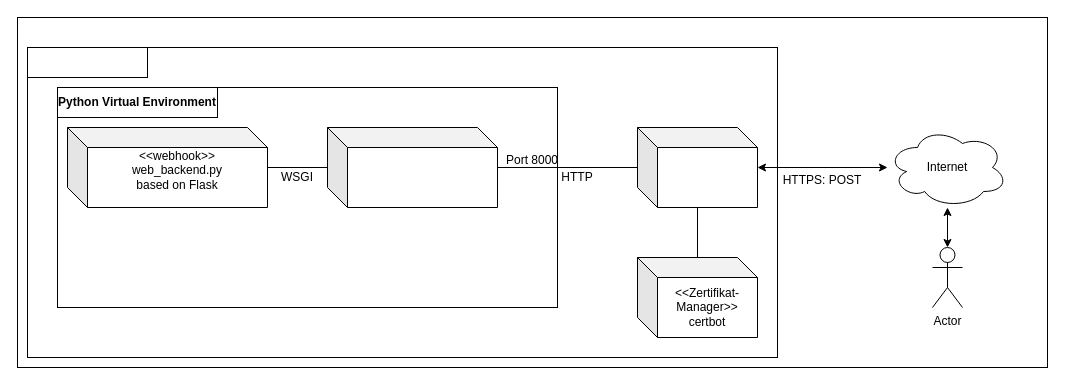
Some shapes in this 1065 by 385 pixel diagram are drawn without their labels. Here are the shapes that lost their labels. From the top down, the centre of each, then its label:
At (87,62): "Server".
At (412,167): "<<WSGI-HTTPServer>> Gunicorn".
At (697,167): "<<Webserver>> nginx".
